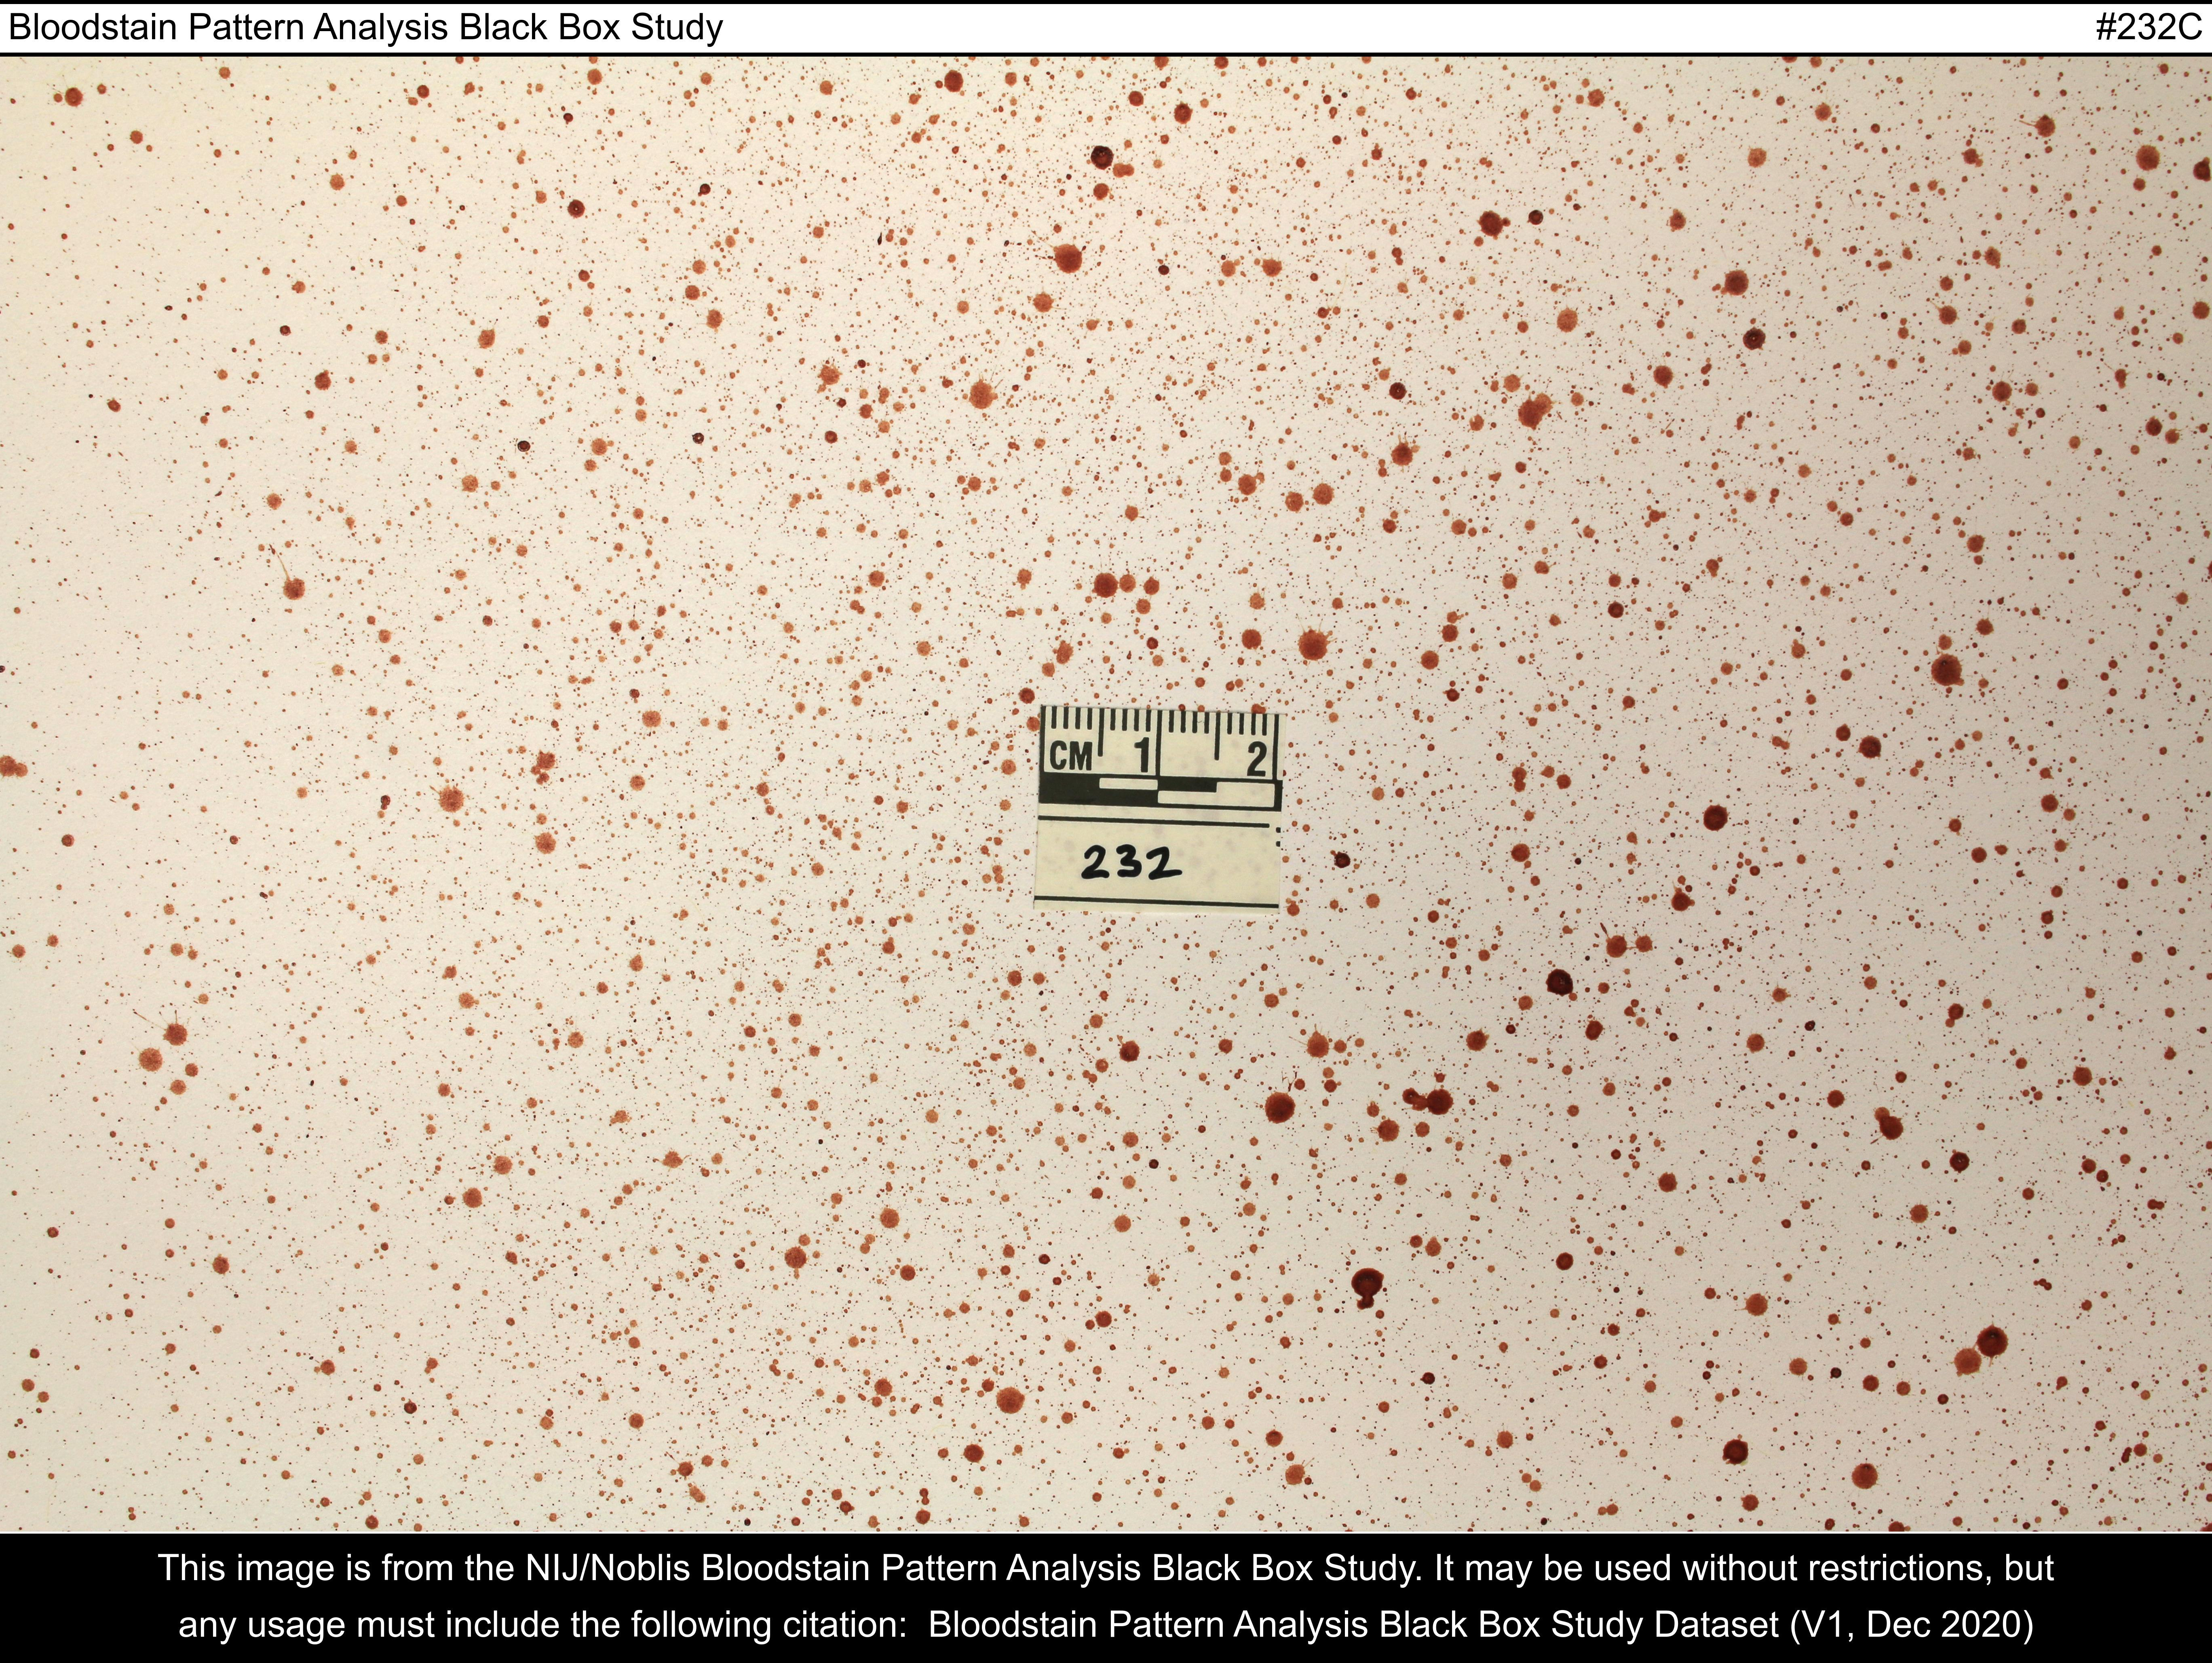Impact: (1290, 176, 2146, 1431), (145, 266, 983, 1460), (1023, 194, 1248, 568)
